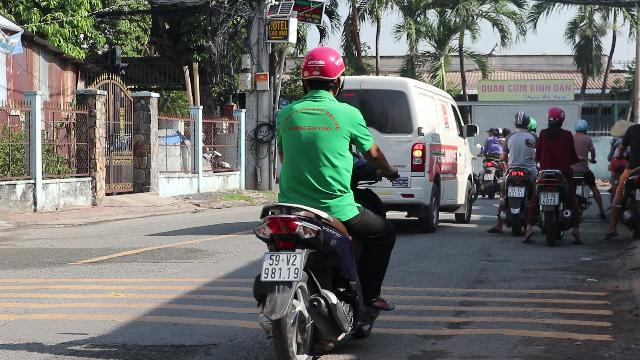helmet: (296, 46, 346, 98), (544, 106, 566, 127), (512, 109, 530, 128)
licenseplate: (260, 253, 302, 281), (540, 193, 558, 205), (508, 188, 524, 196)
motorcyclist: (242, 45, 402, 355), (532, 105, 580, 243), (494, 109, 538, 236)
